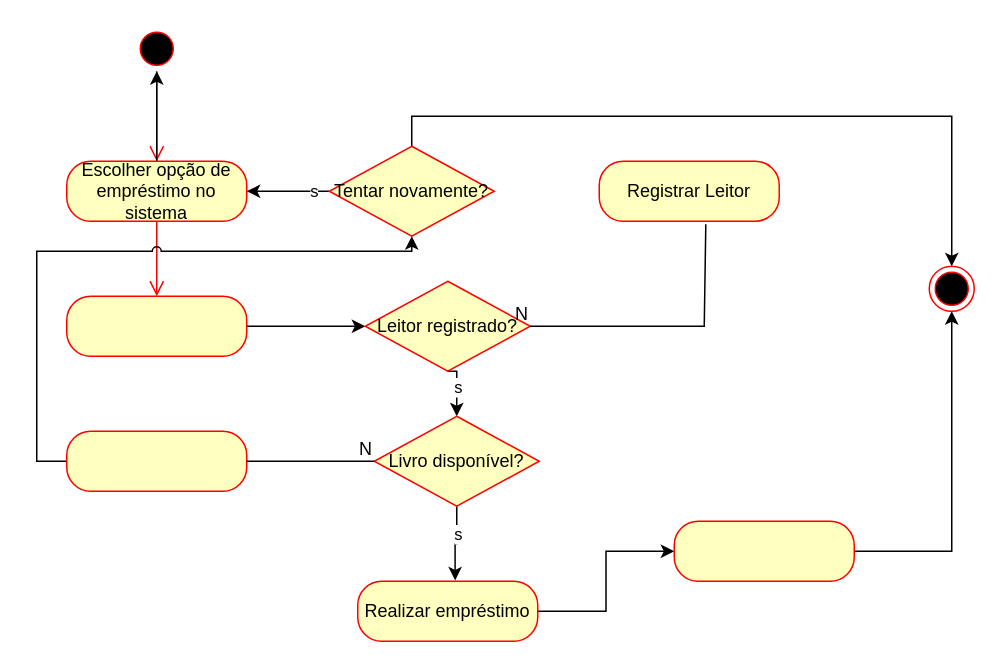
Image size: 1001x668. Some labels were removed from this diagram. Each missing label, with the centre of its shape:
"Gravar histórico de empréstimo" goes at [763,550].
"Inserir ISBN do livro e ID do leitor" goes at [156,325].
"Retornar mensagem" goes at [156,460].
